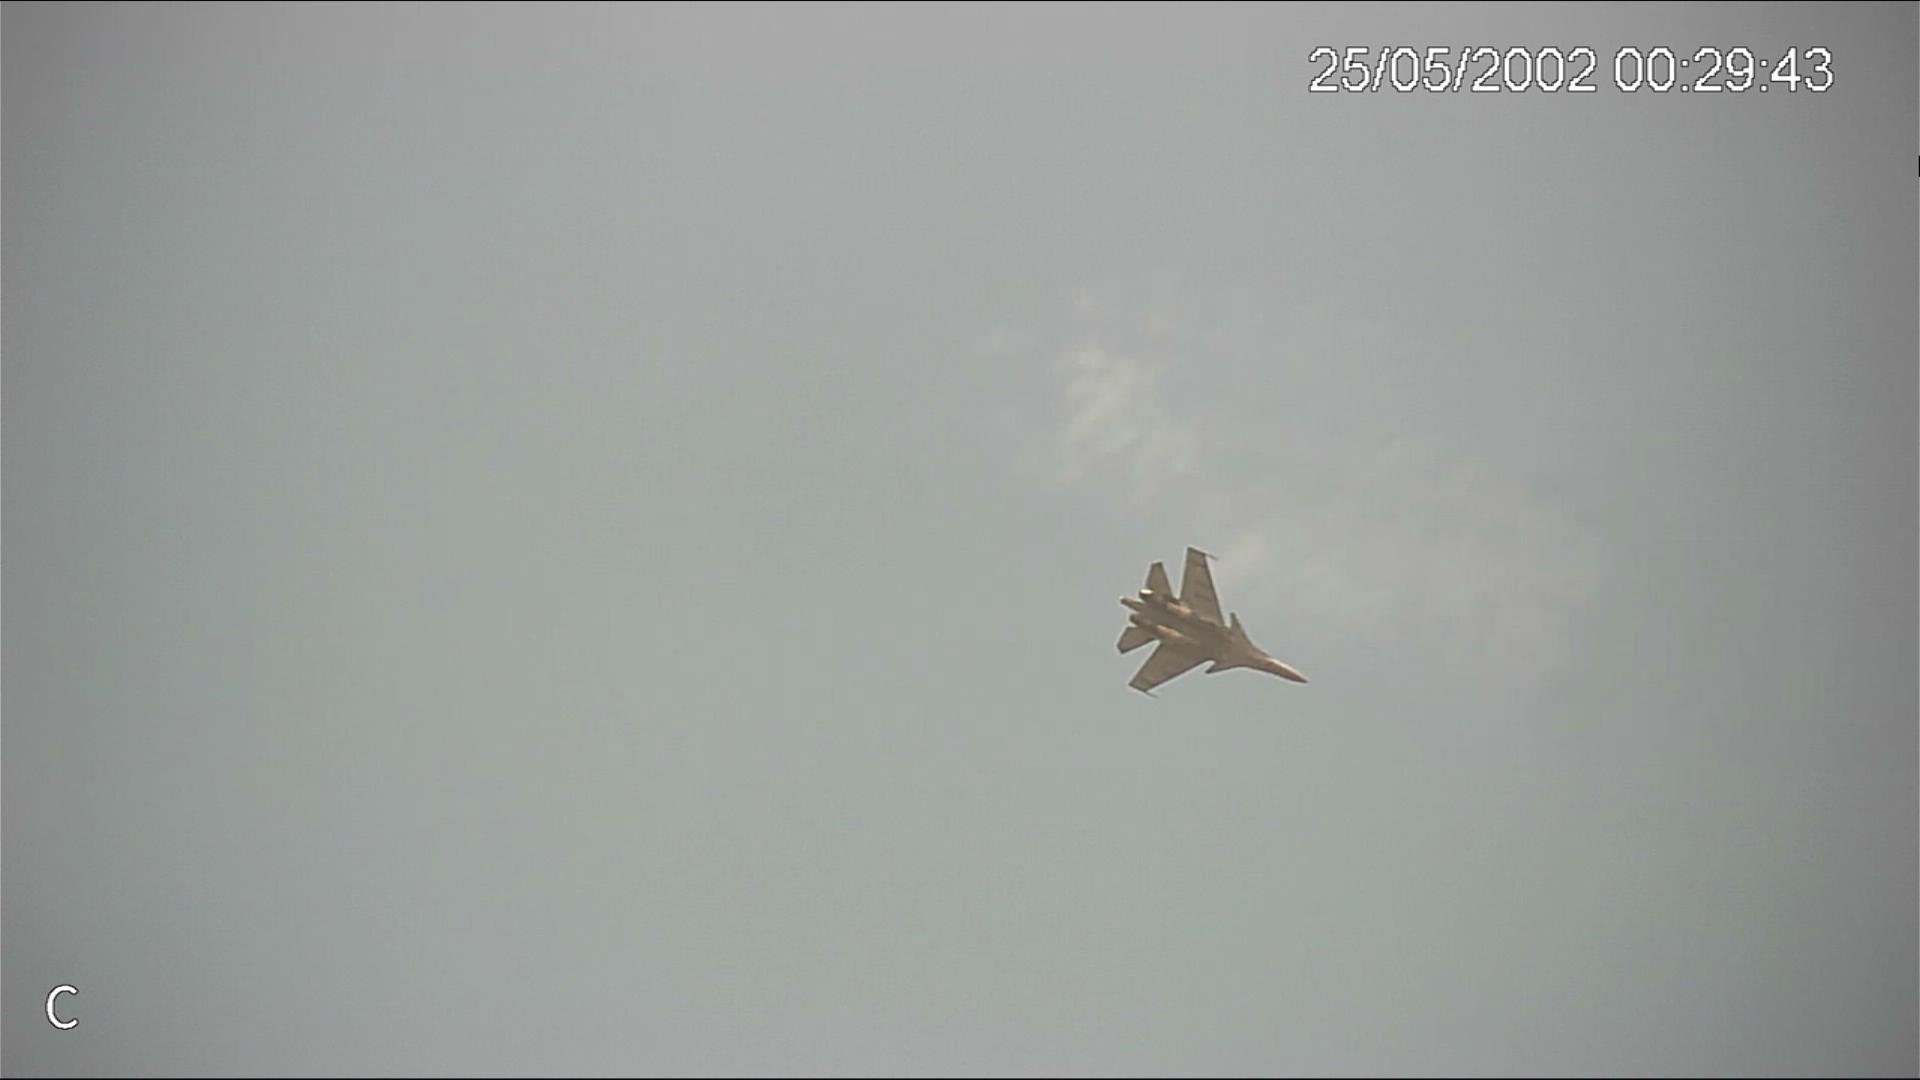SU_30: (1113, 545, 1317, 702)
